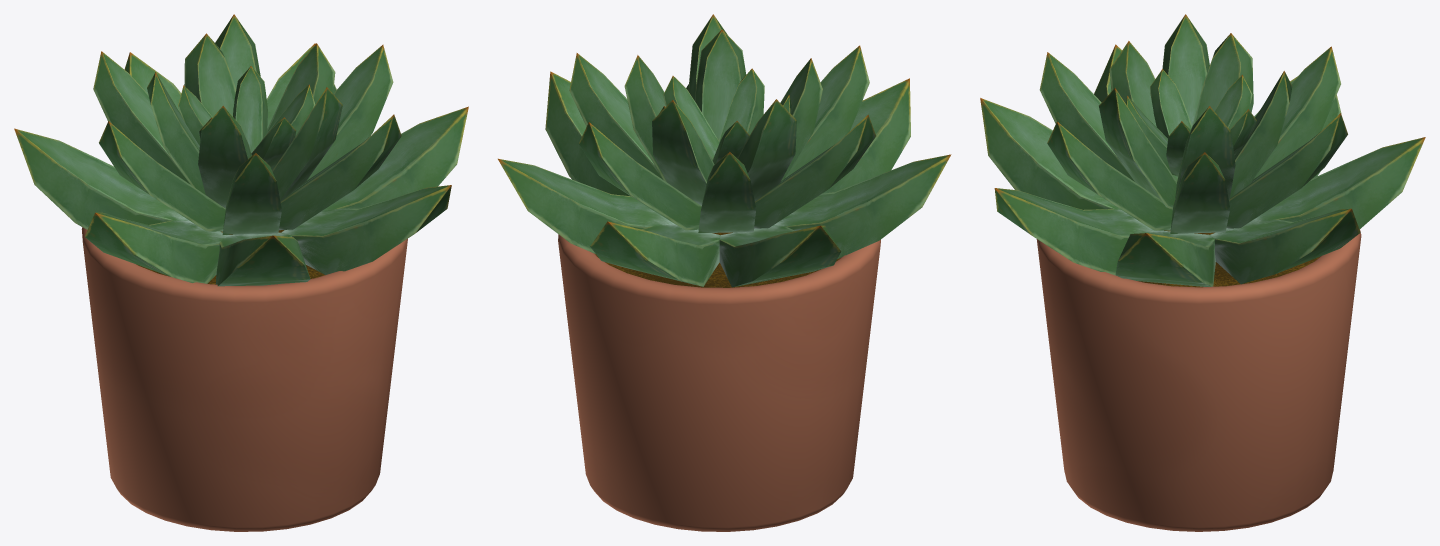
File: aguave_plant.fbx
The picture shows the model from 3 angles, left to right: view 1: azimuth 30°, elevation 25°; view 2: azimuth 150°, elevation 25°; view 3: azimuth 270°, elevation 25°; orthographic projection.
Parts seen in each view (by area): view 1: Cube.003, flow_pot; view 2: Cube.003, flow_pot, Plane.002; view 3: Cube.003, flow_pot, Plane.002.
Boxes of the visible parts, x1,y1,x2,y2 form: Cube.003: (14, 14, 468, 286); flow_pot: (81, 227, 407, 531); Cube.003: (498, 14, 951, 287); flow_pot: (558, 234, 880, 531); Plane.002: (595, 232, 839, 287); Cube.003: (980, 14, 1425, 286); flow_pot: (1036, 229, 1361, 531); Plane.002: (1138, 230, 1320, 287).
Bounding box in the file's own units: 194 × 197 × 194.
